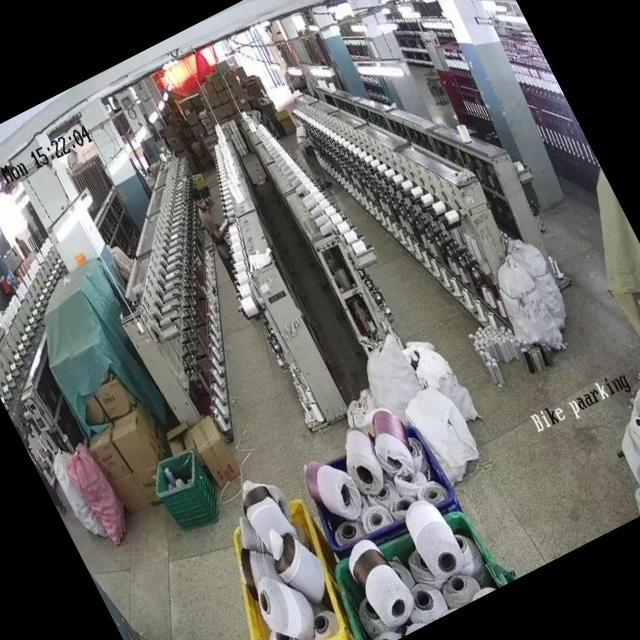person: (184, 182, 242, 268), (289, 119, 334, 188)
